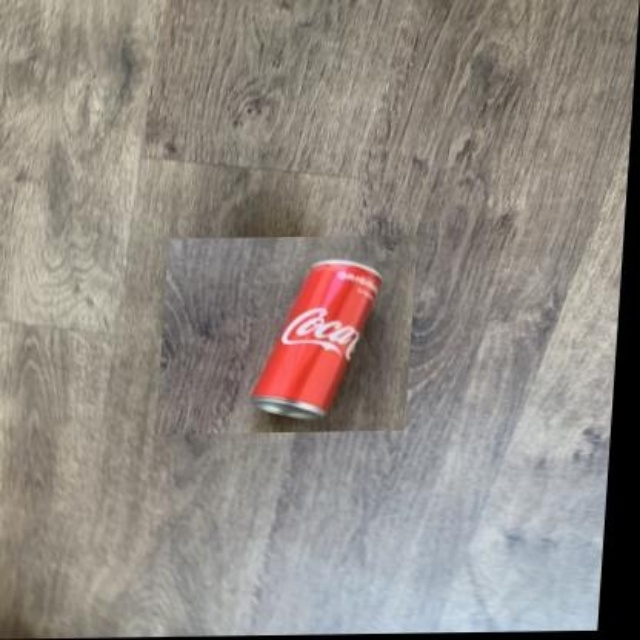trash: (251, 260, 380, 417)
